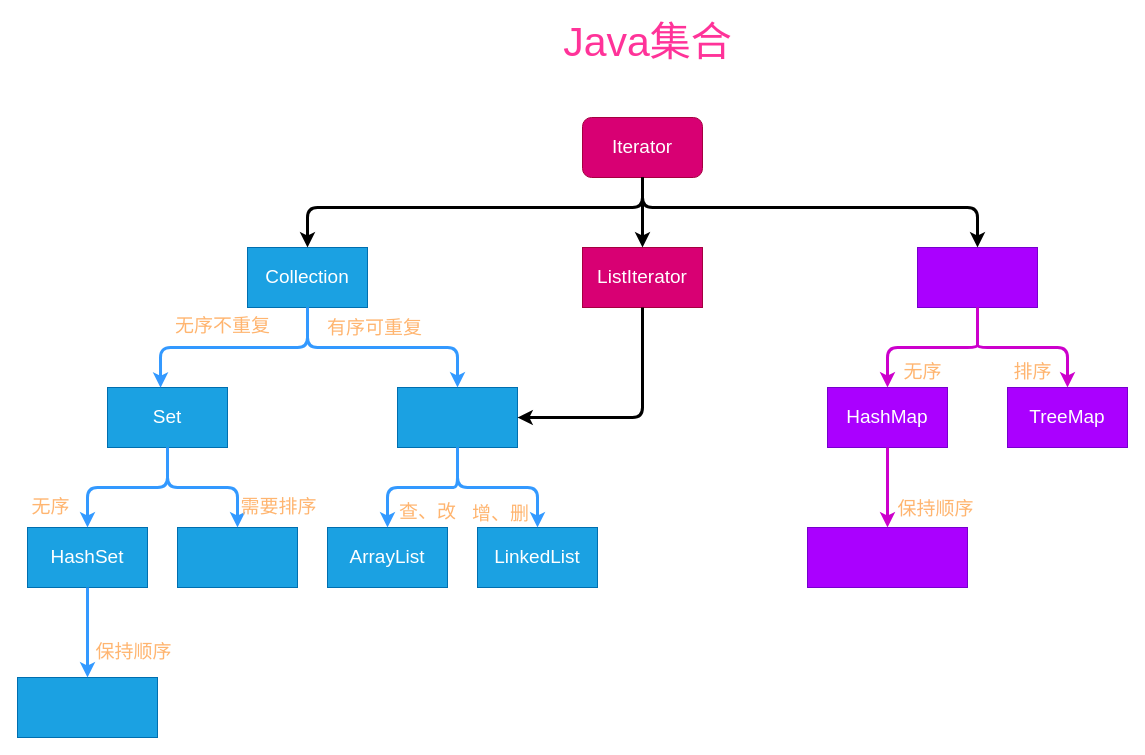
The diagram is 1145 pixels wide and 755 high, and some of its shapes have lost their labels. The shapes that lost their labels are listed below. From the top down, each one's box as (x1, y1, x2, y2) in pixels, then its label:
(916, 246, 1038, 308): Map
(396, 386, 518, 448): List
(176, 526, 298, 588): TreeSet
(806, 526, 968, 588): LinkedHashMap
(16, 676, 158, 738): LinkedHashSet
